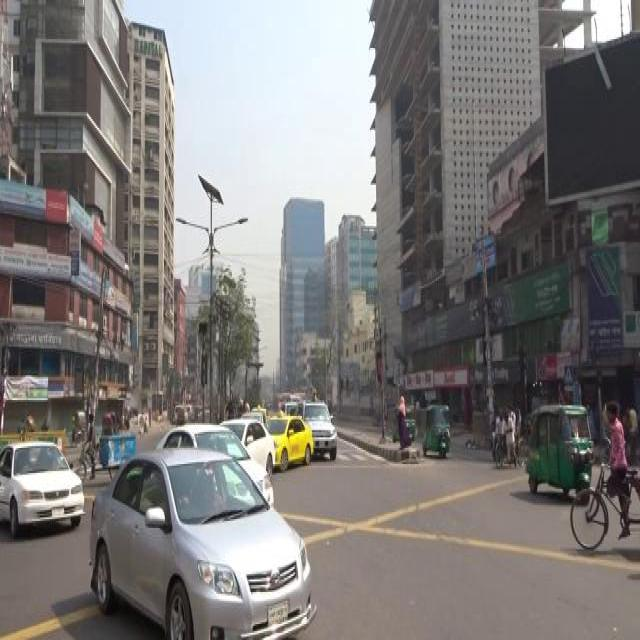car: (89, 444, 314, 634), (156, 420, 274, 512), (0, 438, 84, 529), (218, 418, 276, 474)
rickshaw: (70, 407, 86, 443), (223, 401, 237, 420), (101, 412, 113, 434)
suv: (296, 398, 338, 460)
taxi: (264, 414, 314, 468)
three wheelers -CNG-: (524, 404, 592, 506), (421, 404, 451, 454), (392, 403, 416, 442)
wheelbarrow: (69, 434, 135, 480)
